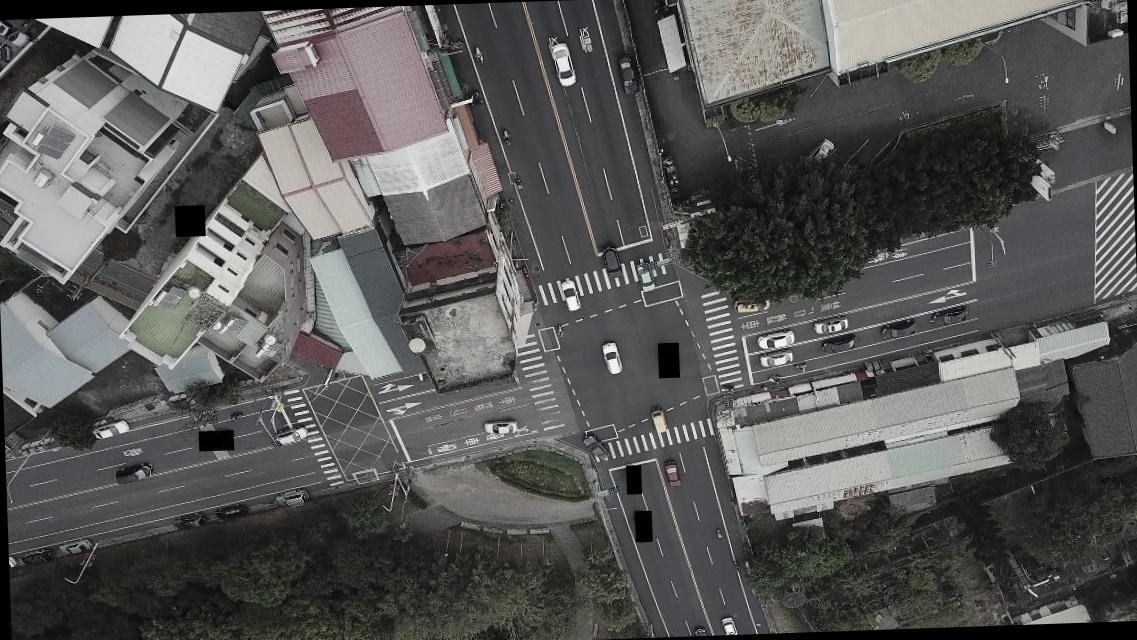vehicle: (550, 42, 576, 86), (803, 138, 835, 168), (88, 419, 129, 442), (617, 54, 639, 96), (112, 463, 154, 485), (928, 306, 969, 328), (879, 318, 917, 340), (754, 330, 795, 350), (274, 424, 308, 448), (0, 20, 26, 51), (818, 334, 858, 354), (600, 244, 622, 279), (211, 504, 249, 524), (582, 432, 608, 460), (812, 316, 848, 336), (731, 297, 772, 314), (601, 341, 622, 374), (18, 547, 54, 566), (560, 278, 580, 312), (274, 488, 308, 508), (170, 512, 204, 532), (661, 458, 681, 489), (58, 537, 93, 554), (635, 263, 655, 292), (758, 351, 792, 368), (482, 421, 516, 435), (649, 406, 665, 434), (720, 613, 736, 634)
